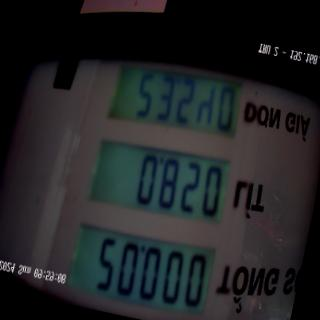screen: (59, 26, 262, 320)
